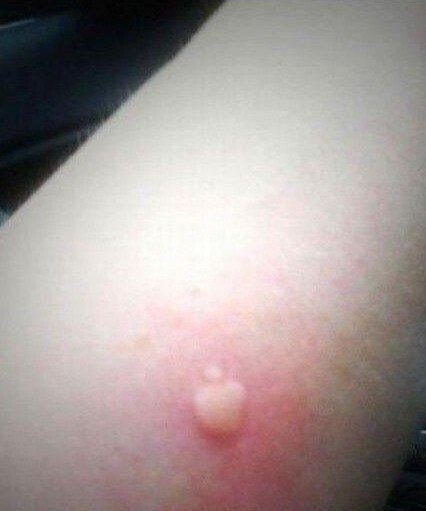Mosquito: (192, 359, 247, 452)
